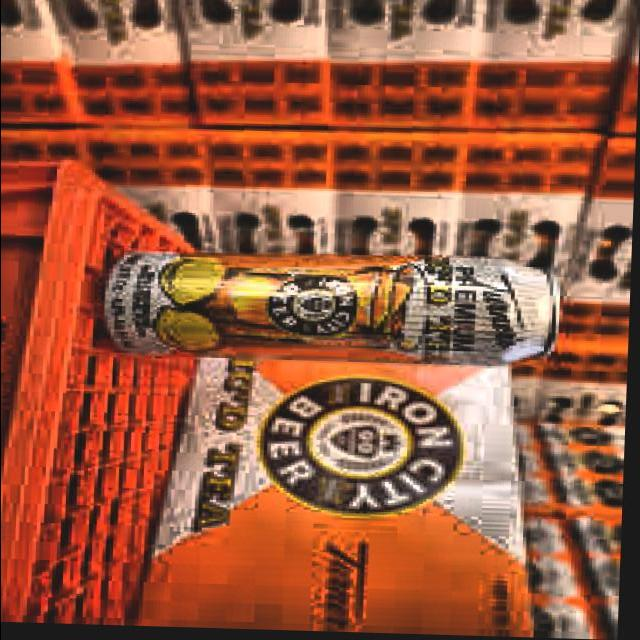litter: (96, 245, 568, 372)
